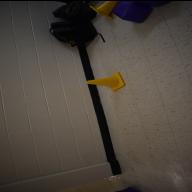cone: (87, 72, 125, 90), (90, 0, 118, 18)
cube: (112, 0, 152, 22), (134, 0, 166, 6)
